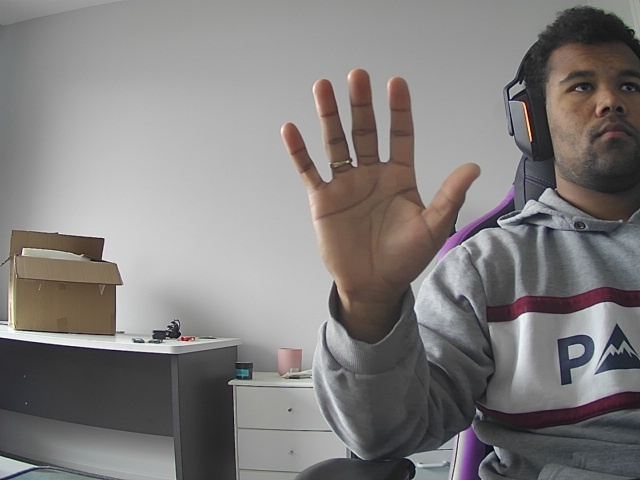Hello: (249, 52, 487, 320)
